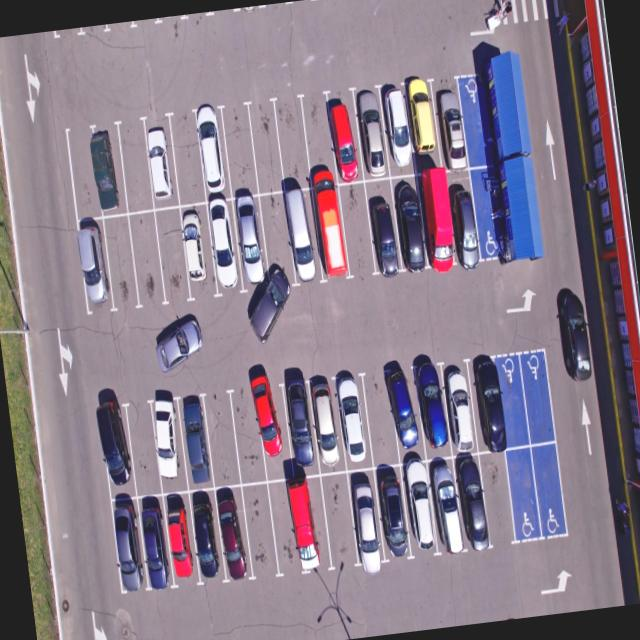car: (250, 374, 298, 479), (286, 474, 334, 576), (346, 466, 392, 570), (396, 456, 442, 560), (414, 168, 459, 274), (370, 462, 415, 566), (427, 456, 471, 558), (332, 368, 377, 466), (202, 198, 246, 298), (280, 184, 324, 284), (382, 362, 426, 462), (279, 372, 322, 474), (212, 483, 256, 582), (176, 390, 220, 488), (312, 184, 356, 282), (390, 174, 432, 276), (94, 398, 136, 500), (469, 355, 512, 454), (304, 372, 346, 473), (448, 168, 490, 269), (188, 488, 230, 588), (411, 359, 454, 456), (72, 216, 114, 315), (158, 489, 200, 588), (147, 396, 190, 492), (362, 176, 404, 274), (452, 452, 493, 552), (88, 124, 132, 216), (179, 202, 221, 298), (134, 492, 175, 590), (142, 115, 185, 208), (232, 195, 274, 290), (378, 81, 420, 174), (109, 496, 148, 596), (191, 105, 233, 197), (440, 360, 482, 452), (352, 86, 393, 180), (432, 76, 473, 170), (403, 78, 444, 170), (324, 91, 364, 182)
free: (526, 441, 570, 540), (319, 472, 362, 572), (125, 210, 168, 310), (502, 444, 545, 544), (475, 447, 517, 549), (201, 388, 244, 487), (228, 380, 269, 483), (240, 482, 282, 580), (100, 214, 142, 310), (336, 182, 378, 278), (152, 208, 193, 306), (359, 366, 400, 462), (123, 398, 164, 494), (515, 350, 556, 446), (258, 190, 298, 286), (493, 351, 533, 447), (167, 110, 208, 202), (219, 102, 260, 193), (264, 480, 302, 578), (245, 100, 285, 190), (115, 118, 155, 208), (274, 95, 314, 184), (62, 128, 100, 219), (300, 92, 338, 180)
